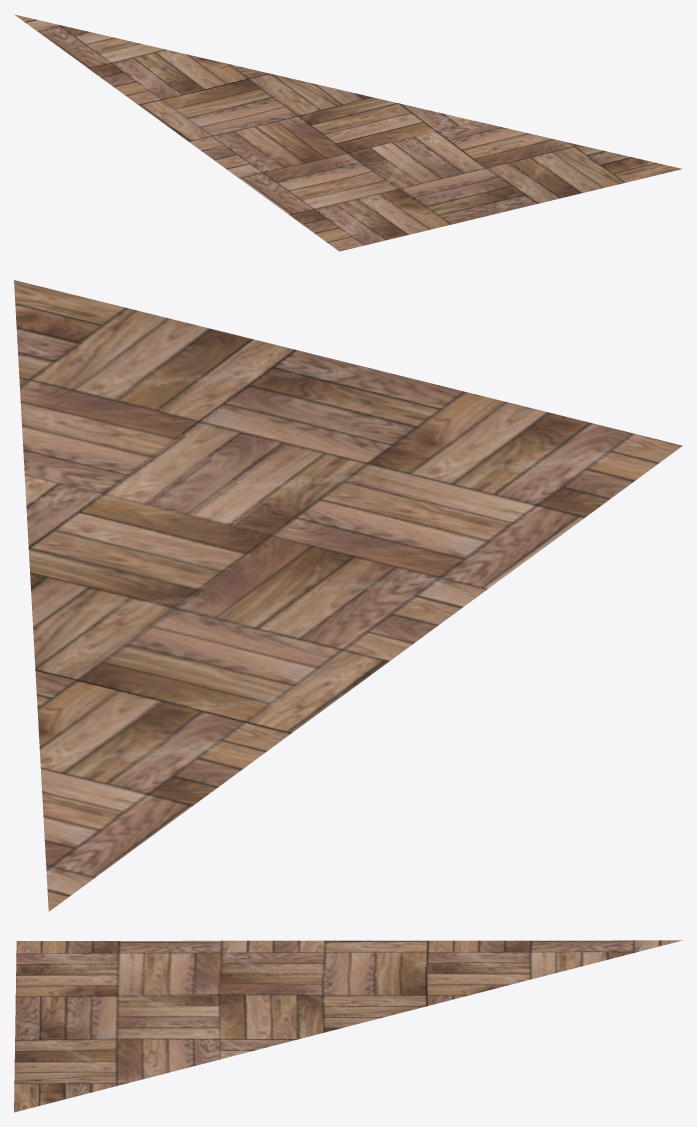
The model's file is triangle.fbx.
The picture shows the model from 3 angles, top to bottom: view 1: azimuth 30°, elevation 25°; view 2: azimuth 150°, elevation 25°; view 3: azimuth 270°, elevation 25°; orthographic projection. The views are drawn at different scales.
Parts seen in each view (by area): view 1: Triangle; view 2: Triangle; view 3: Triangle.
Boxes of the visible parts, x1,y1,x2,y2 form: Triangle: [14, 14, 681, 251]; Triangle: [14, 280, 682, 911]; Triangle: [14, 940, 682, 1112].
Size of the model in its own units: 91.31 by 0 by 150.
